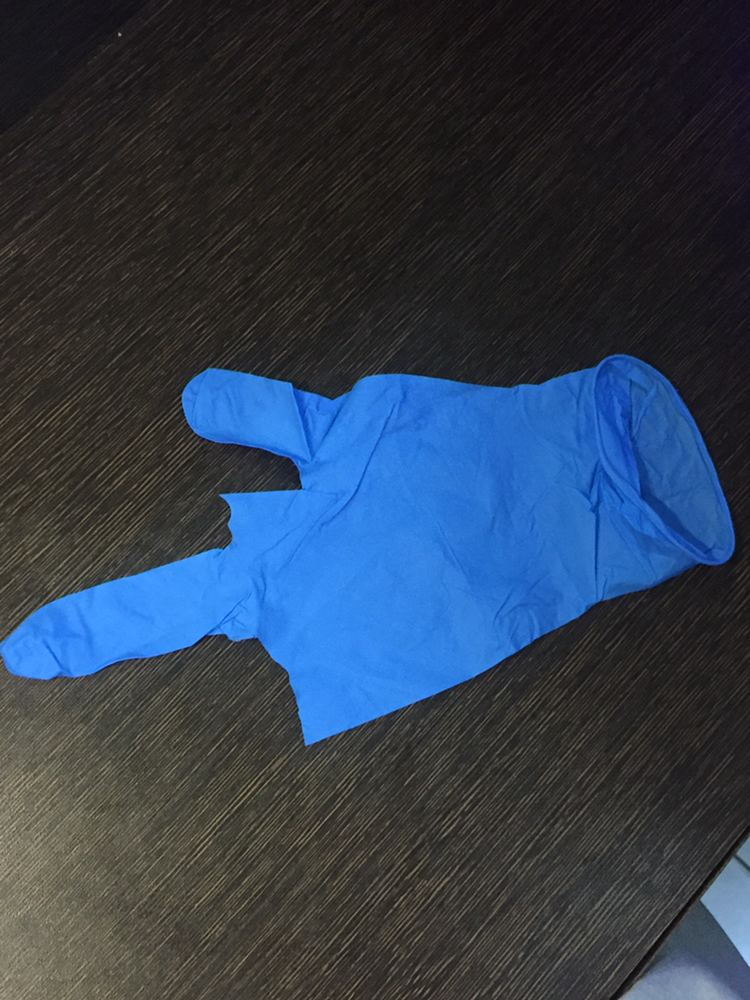defected: (1, 354, 750, 817)
